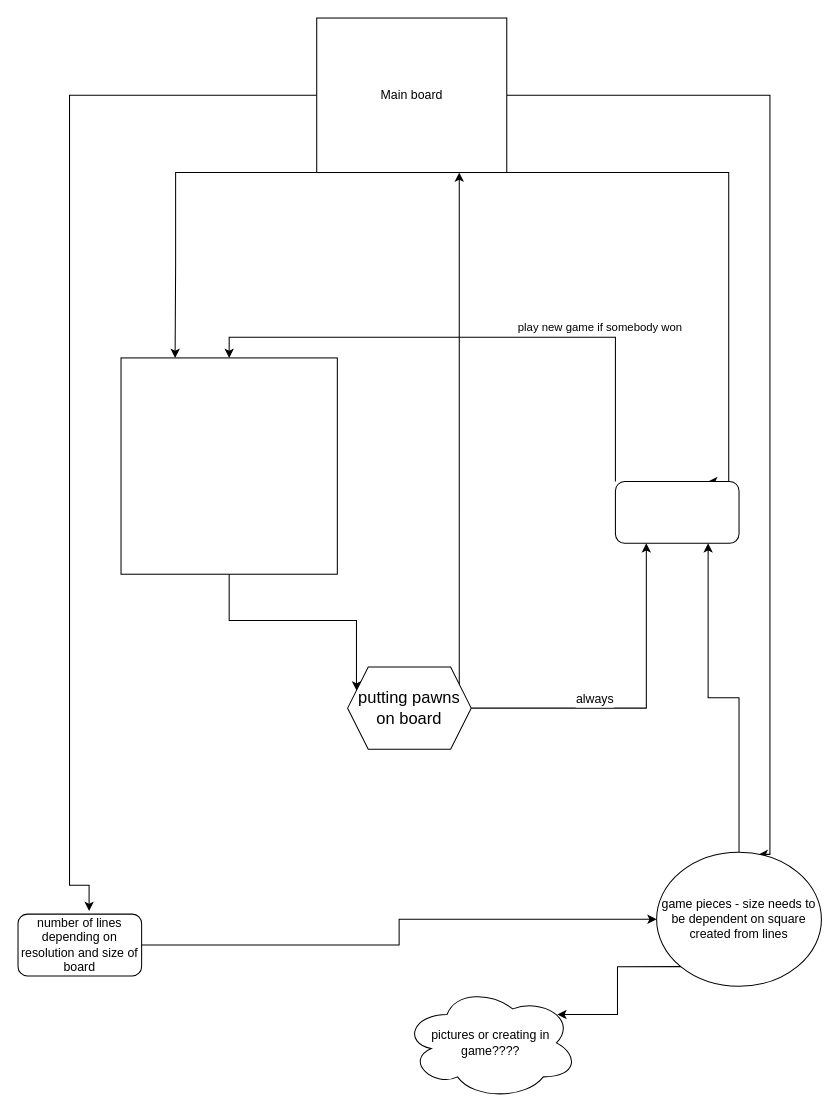
This 839x1118 diagram has some shape labels left out. Each missing label, with the centre of its shape:
"Game playing" belongs at point 228,465.
"system to check if/who win" belongs at point 676,511.
